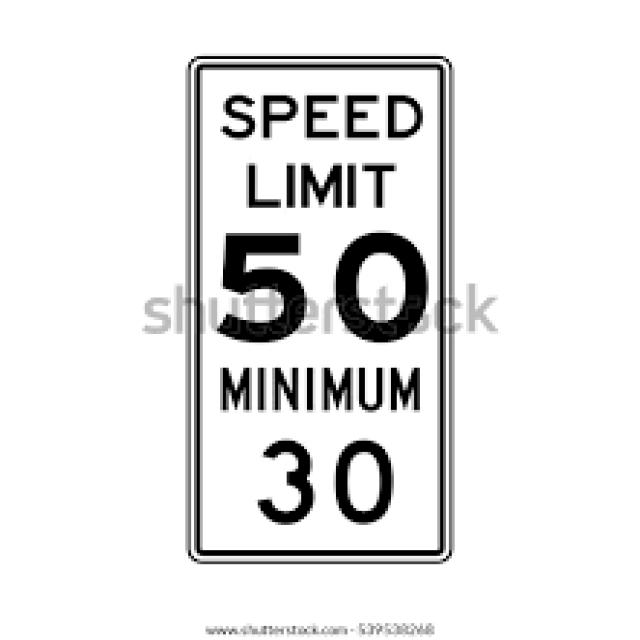speedLimit50: (184, 38, 450, 355)
